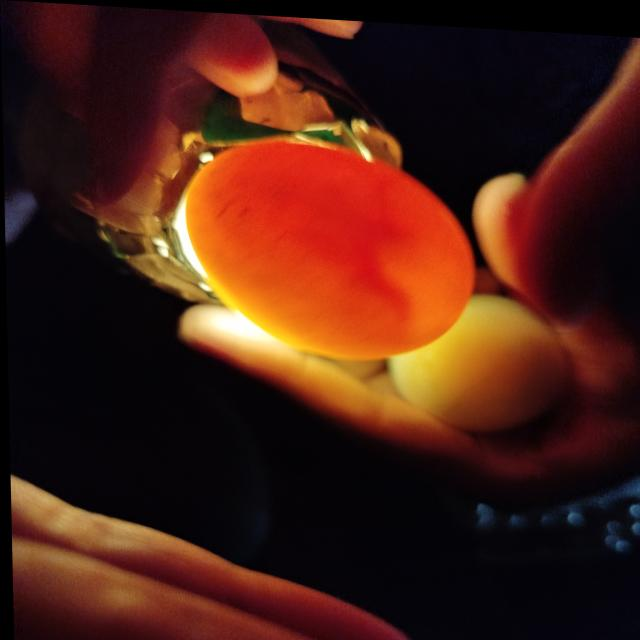Gema Quebrada: (196, 138, 436, 319)
